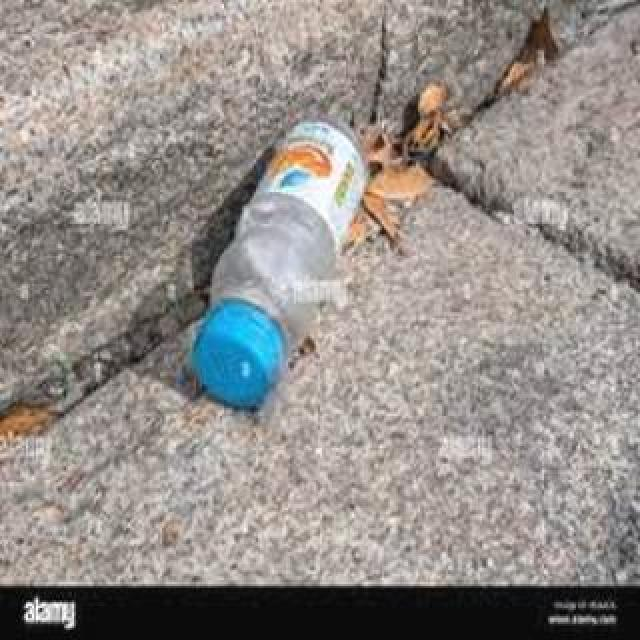Pet_Bottle: (190, 110, 372, 414)
